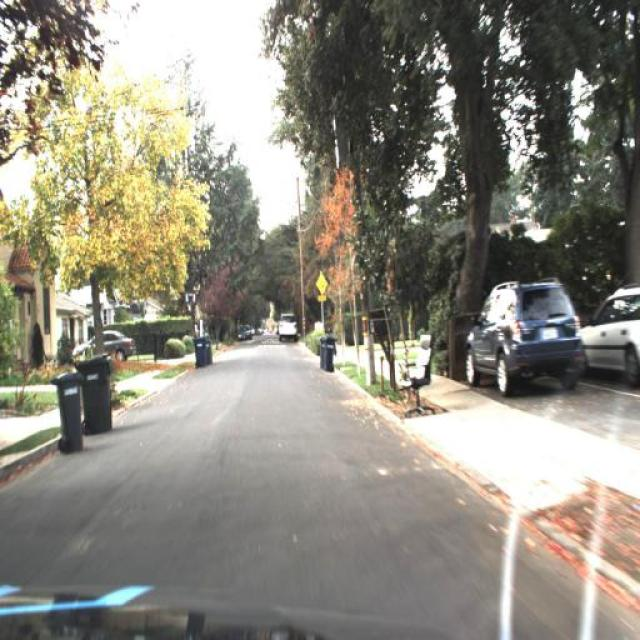car: (456, 264, 589, 408), (569, 288, 640, 387), (70, 322, 134, 363), (276, 306, 302, 345), (274, 311, 300, 344), (233, 324, 253, 346)
